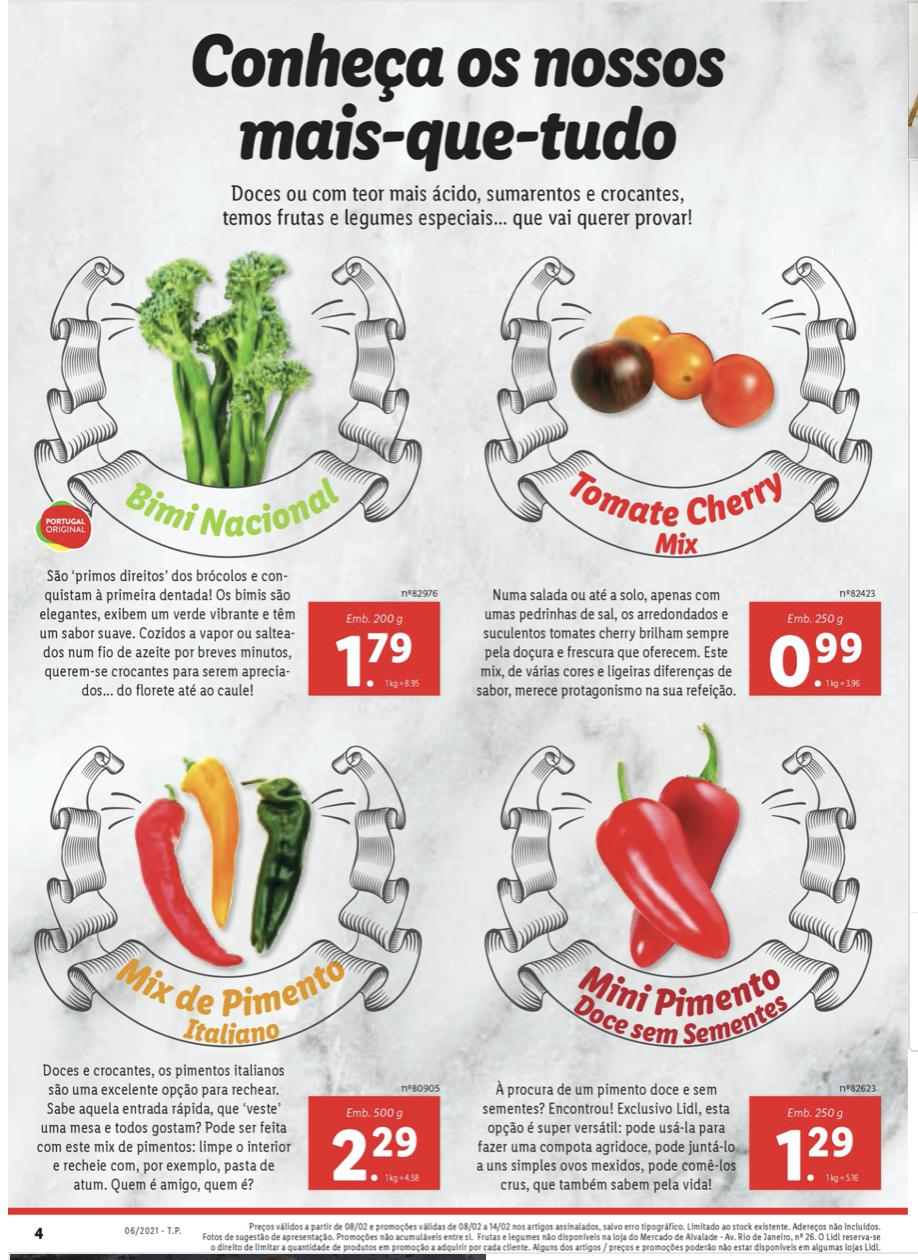price: (766, 624, 874, 695), (324, 623, 434, 691), (327, 1123, 427, 1187), (776, 1118, 859, 1190)
product: (455, 704, 898, 1206), (13, 731, 455, 1206), (455, 241, 898, 704), (23, 241, 449, 713)
